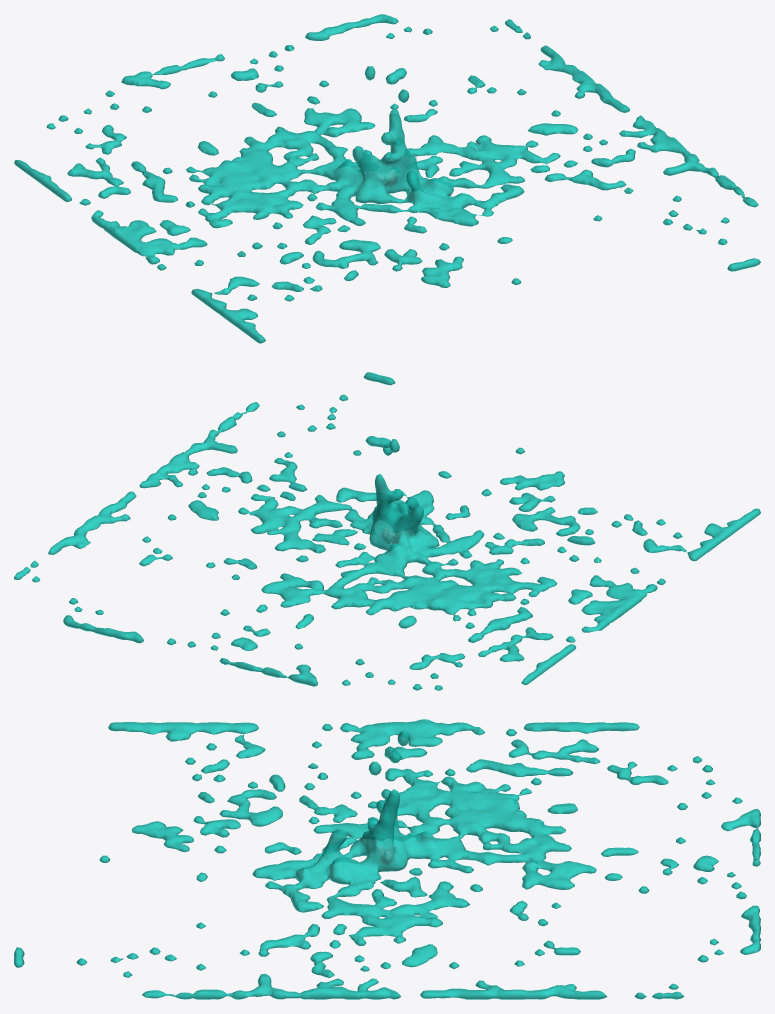
3 renders of one model, top to bottom at view 1: azimuth 30°, elevation 25°; view 2: azimuth 150°, elevation 25°; view 3: azimuth 270°, elevation 25°, orthographic. The views are drawn at different scales.
Parts seen in each view (by area): view 1: Liquid_Domain; view 2: Liquid_Domain; view 3: Liquid_Domain.
Boxes of the visible parts, box(x1,y1,x2,y2) form: Liquid_Domain: box(14, 14, 760, 343); Liquid_Domain: box(14, 372, 760, 690); Liquid_Domain: box(14, 719, 760, 999).
Size of the model in its own units: 12.44 by 2.73 by 14.41.
